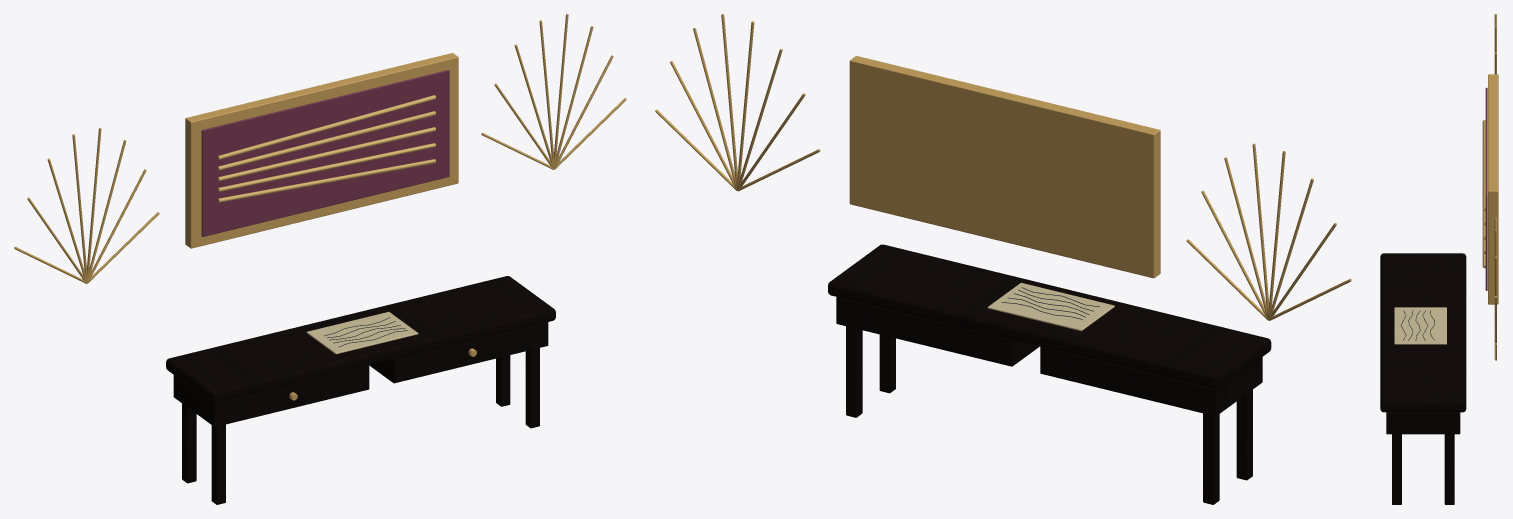
Rendered from speakeasy-console-wall.glb.
3 views of the same model, side by side, from view 1: azimuth 30°, elevation 25°; view 2: azimuth 150°, elevation 25°; view 3: azimuth 270°, elevation 25° (orthographic). The views are drawn at different scales.
Visible parts, largest first — view 1: speakeasy-console-wall - Room Review joinery runtime PBR, speakeasy-console-wall - Room Review upholstery runtime PBR, speakeasy-console-wall - Room Review trim runtime PBR, speakeasy-console-wall - Room Review accent runtime PBR, speakeasy-console-wall - Room Review paper runtime PBR; view 2: speakeasy-console-wall - Room Review trim runtime PBR, speakeasy-console-wall - Room Review joinery runtime PBR, speakeasy-console-wall - Room Review paper runtime PBR; view 3: speakeasy-console-wall - Room Review joinery runtime PBR, speakeasy-console-wall - Room Review trim runtime PBR, speakeasy-console-wall - Room Review paper runtime PBR, speakeasy-console-wall - Room Review upholstery runtime PBR, speakeasy-console-wall - Room Review accent runtime PBR, speakeasy-console-wall - Room Review ink charcoal runtime PB.
Part boxes in pixels (x1=…): speakeasy-console-wall - Room Review joinery runtime PBR: x1=166, y1=276, x2=555, y2=504; speakeasy-console-wall - Room Review upholstery runtime PBR: x1=201, y1=70, x2=449, y2=236; speakeasy-console-wall - Room Review trim runtime PBR: x1=14, y1=14, x2=626, y2=400; speakeasy-console-wall - Room Review accent runtime PBR: x1=217, y1=95, x2=435, y2=202; speakeasy-console-wall - Room Review paper runtime PBR: x1=306, y1=312, x2=418, y2=354; speakeasy-console-wall - Room Review trim runtime PBR: x1=655, y1=14, x2=1351, y2=320; speakeasy-console-wall - Room Review joinery runtime PBR: x1=828, y1=244, x2=1271, y2=504; speakeasy-console-wall - Room Review paper runtime PBR: x1=987, y1=282, x2=1114, y2=331; speakeasy-console-wall - Room Review joinery runtime PBR: x1=1380, y1=253, x2=1466, y2=504; speakeasy-console-wall - Room Review trim runtime PBR: x1=1488, y1=14, x2=1498, y2=360; speakeasy-console-wall - Room Review paper runtime PBR: x1=1394, y1=307, x2=1446, y2=344; speakeasy-console-wall - Room Review upholstery runtime PBR: x1=1485, y1=87, x2=1487, y2=290; speakeasy-console-wall - Room Review accent runtime PBR: x1=1482, y1=120, x2=1485, y2=268; speakeasy-console-wall - Room Review ink charcoal runtime PB: x1=1400, y1=310, x2=1434, y2=340.
Bounding box in the file's own units: 4.8 × 2.61 × 0.895.
6 materials, 1 textured.
